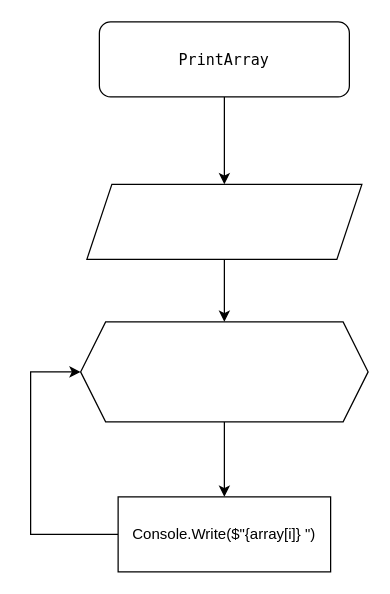
Some shapes in this 390 by 594 pixel diagram are drawn without their labels. The shapes that lost their labels are listed below. From the top down, each one's centre as x and y in pixels, then its label:
point (224, 221): string [ ] array
point (223, 371): for (i = 0; i < array.Lenght; i++)
